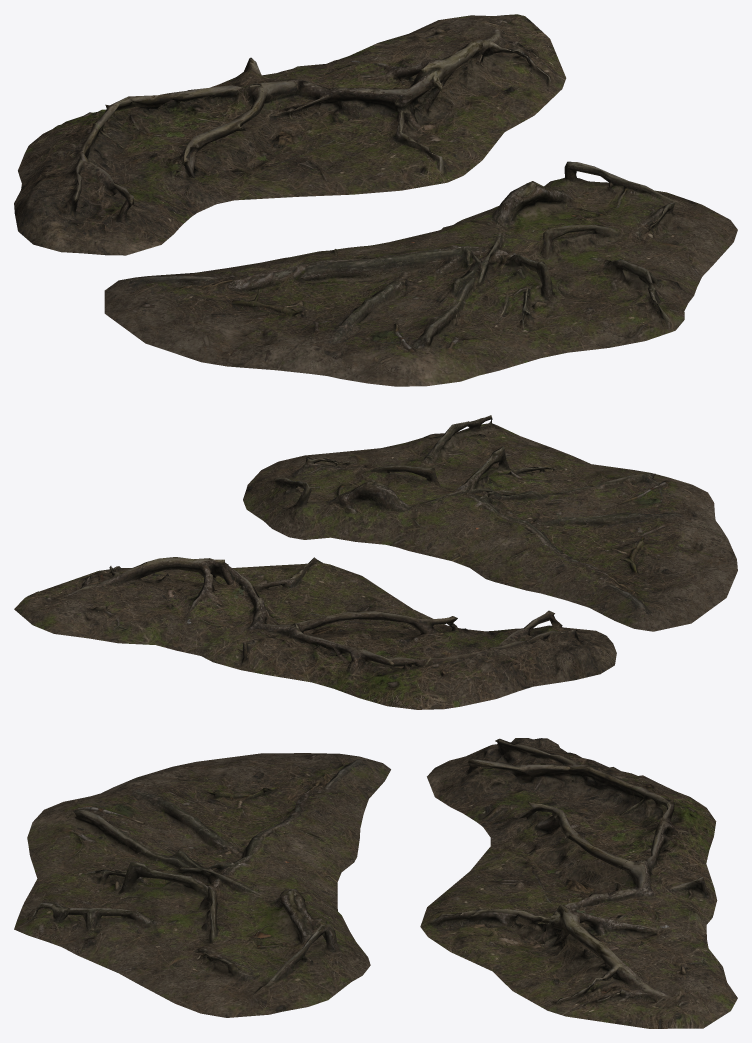
File: pine_roots.glb
3 renders of one model, top to bottom at view 1: azimuth 30°, elevation 25°; view 2: azimuth 150°, elevation 25°; view 3: azimuth 270°, elevation 25°, orthographic. The views are drawn at different scales.
Visible parts, largest first — view 1: pine_roots_b, pine_roots_a; view 2: pine_roots_b, pine_roots_a; view 3: pine_roots_b, pine_roots_a.
Part boxes in pixels (bbox=[...]): pine_roots_b: bbox=[104, 161, 737, 386]; pine_roots_a: bbox=[14, 14, 566, 255]; pine_roots_b: bbox=[243, 415, 737, 631]; pine_roots_a: bbox=[14, 557, 616, 709]; pine_roots_b: bbox=[14, 753, 390, 1017]; pine_roots_a: bbox=[420, 738, 737, 1028].
Size of the model in its own units: 1.74 by 0.1511 by 1.88.
Materials: 2 (2 with a texture image).
